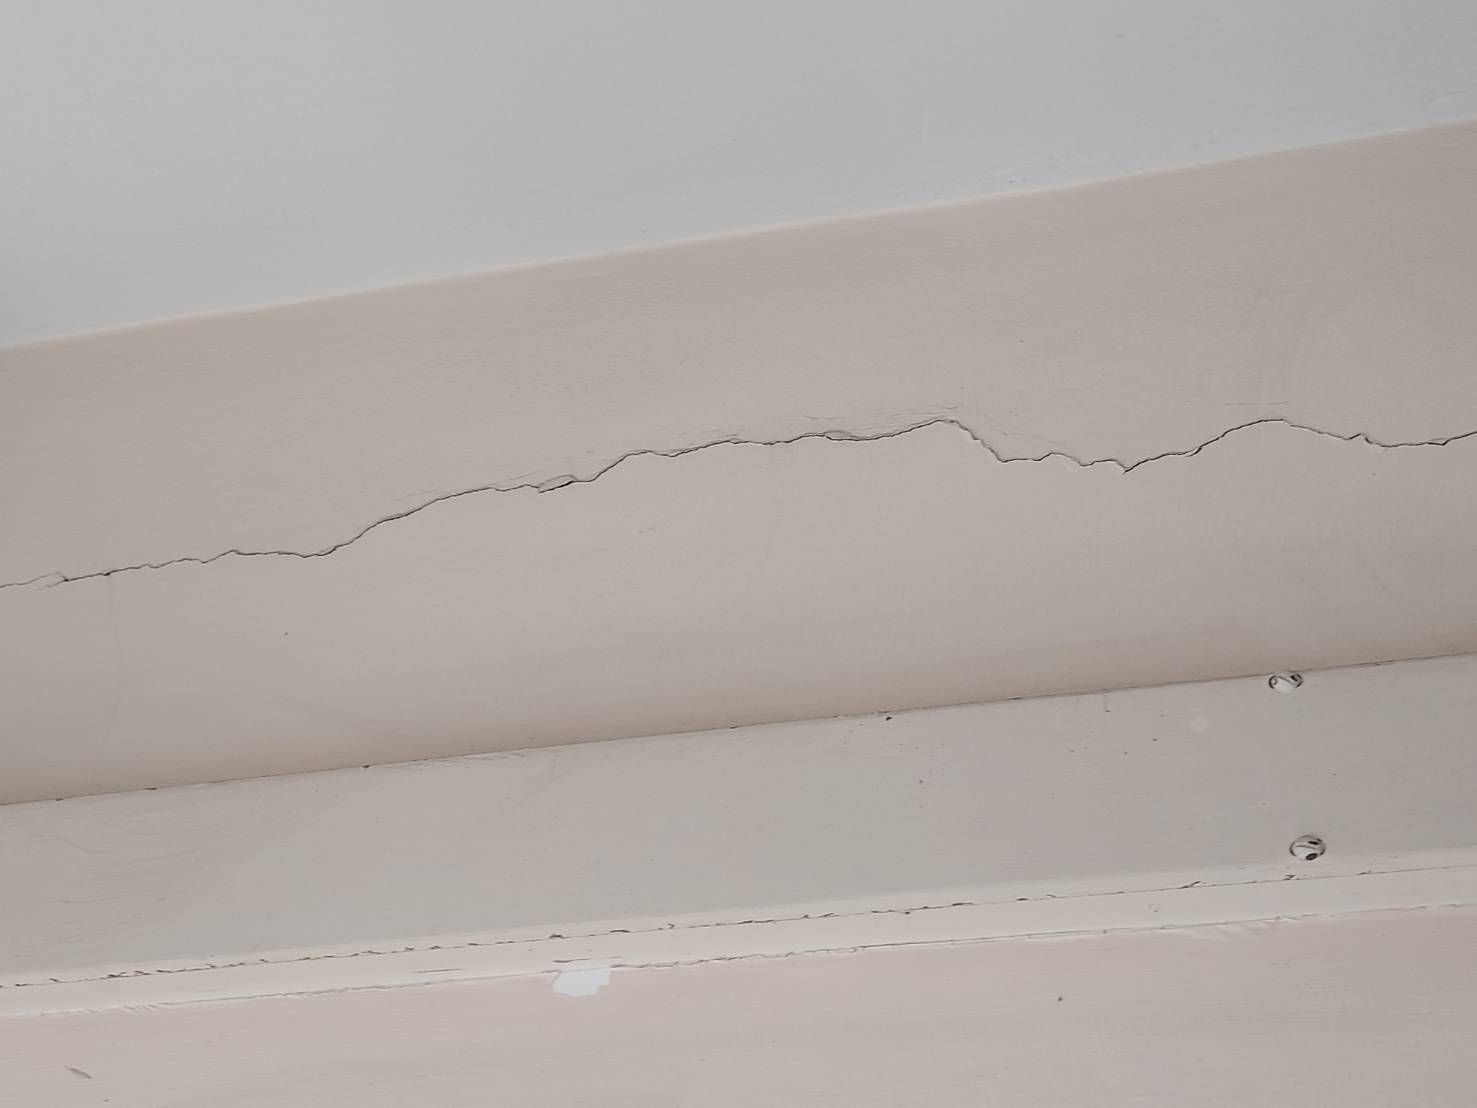Low: (1, 388, 1477, 602)
